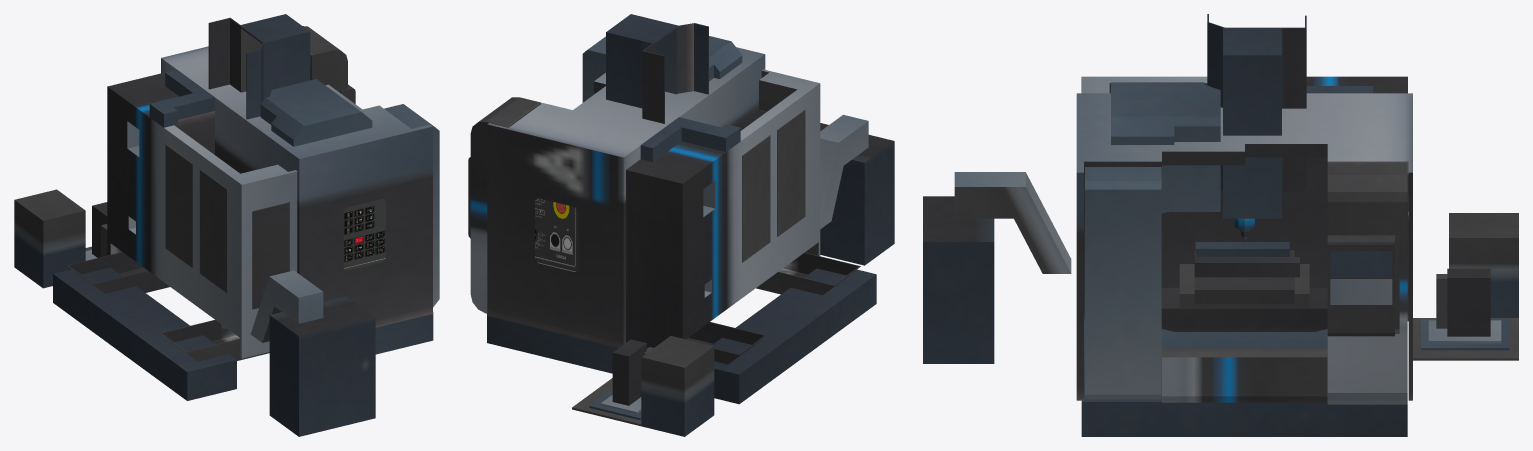
Rendered from shebei.fbx.
3 views of the same model, side by side, from view 1: azimuth 30°, elevation 25°; view 2: azimuth 150°, elevation 25°; view 3: azimuth 270°, elevation 25° (orthographic). The views are drawn at different scales.
Parts seen in each view (by area): view 1: 12xian_she_bei_11, 12xian_she_bei_11_boli; view 2: 12xian_she_bei_11, 12xian_she_bei_11_boli; view 3: 12xian_she_bei_11.
Part boxes in pixels (x1=…): 12xian_she_bei_11: x1=14, y1=14, x2=439, y2=436; 12xian_she_bei_11_boli: x1=343, y1=199, x2=385, y2=270; 12xian_she_bei_11: x1=468, y1=14, x2=894, y2=436; 12xian_she_bei_11_boli: x1=535, y1=198, x2=578, y2=271; 12xian_she_bei_11: x1=923, y1=14, x2=1518, y2=436.
Size of the model in its own units: 292 by 292 by 459.
